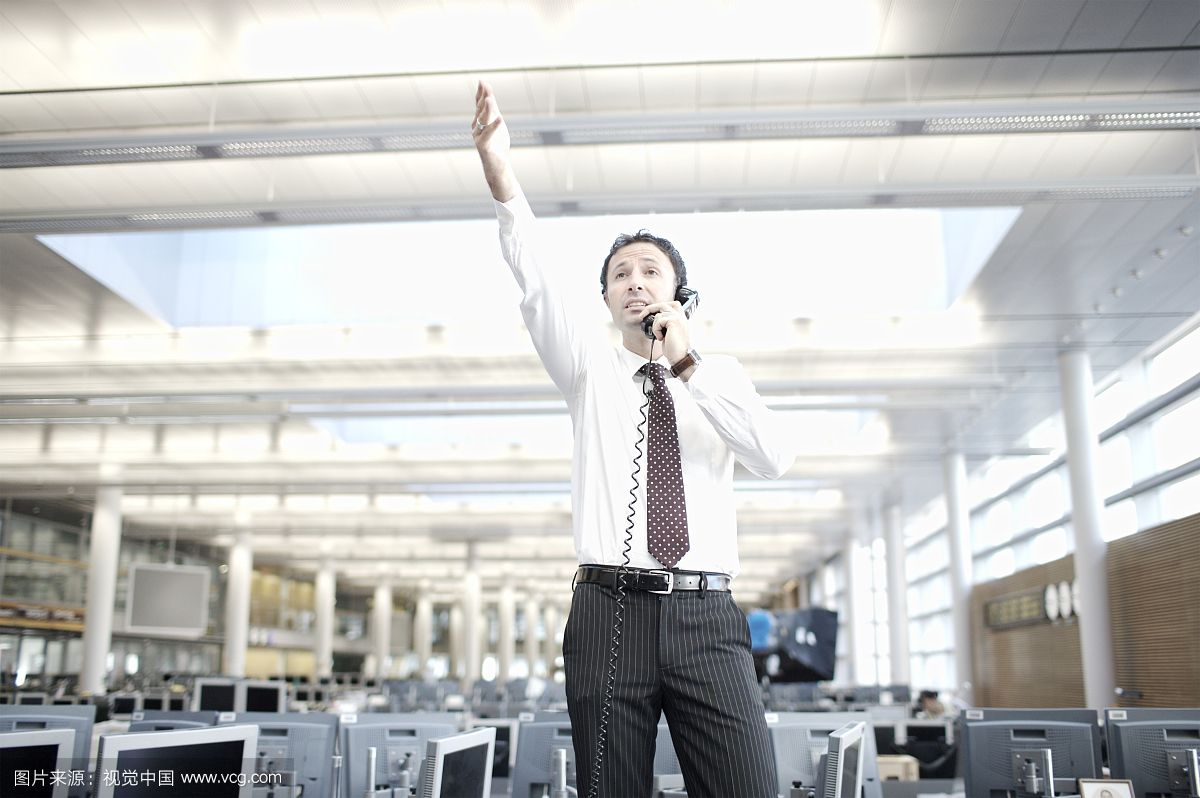handsup: (463, 75, 818, 788)
